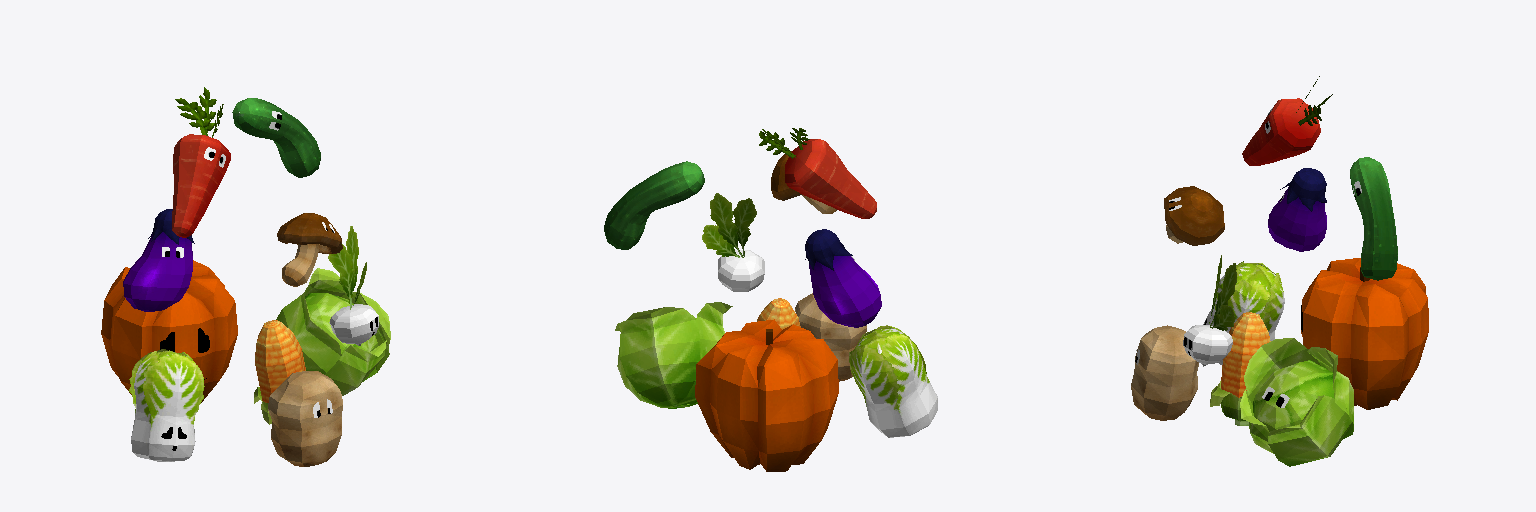
3 views of the same model, side by side, from view 1: azimuth 30°, elevation 25°; view 2: azimuth 150°, elevation 25°; view 3: azimuth 270°, elevation 25° (orthographic).
Visible parts, largest first — view 1: polygon4, polygon3, polygon7, polygon0, polygon9, polygon8, polygon1, polygon2, polygon5, polygon6; view 2: polygon4, polygon7, polygon3, polygon8, polygon9, polygon1, polygon5, polygon0, polygon6, polygon2; view 3: polygon4, polygon7, polygon0, polygon1, polygon8, polygon9, polygon2, polygon6, polygon3, polygon5.
Boxes of the visible parts, <box> form: polygon4: <box>101,260,237,402</box>; polygon3: <box>129,349,204,461</box>; polygon7: <box>276,268,390,395</box>; polygon0: <box>268,371,342,466</box>; polygon9: <box>172,87,230,237</box>; polygon8: <box>123,209,194,311</box>; polygon1: <box>232,98,320,177</box>; polygon2: <box>254,320,305,424</box>; polygon5: <box>328,226,378,345</box>; polygon6: <box>277,213,342,286</box>; polygon4: <box>695,319,838,471</box>; polygon7: <box>615,302,732,408</box>; polygon3: <box>849,325,937,437</box>; polygon8: <box>805,229,881,327</box>; polygon9: <box>759,128,876,218</box>; polygon1: <box>604,161,704,249</box>; polygon5: <box>702,193,764,291</box>; polygon0: <box>795,293,866,381</box>; polygon6: <box>771,151,836,213</box>; polygon2: <box>757,298,800,329</box>; polygon4: <box>1301,258,1428,409</box>; polygon7: <box>1240,338,1353,466</box>; polygon0: <box>1131,325,1198,420</box>; polygon1: <box>1350,157,1397,280</box>; polygon8: <box>1268,168,1326,251</box>; polygon9: <box>1242,76,1332,165</box>; polygon2: <box>1210,312,1270,425</box>; polygon6: <box>1164,186,1224,245</box>; polygon3: <box>1203,261,1284,364</box>; polygon5: <box>1183,255,1236,366</box>.
Bounding box in the file's own units: 13.88 × 15.13 × 12.55.
10 materials, 10 textured.